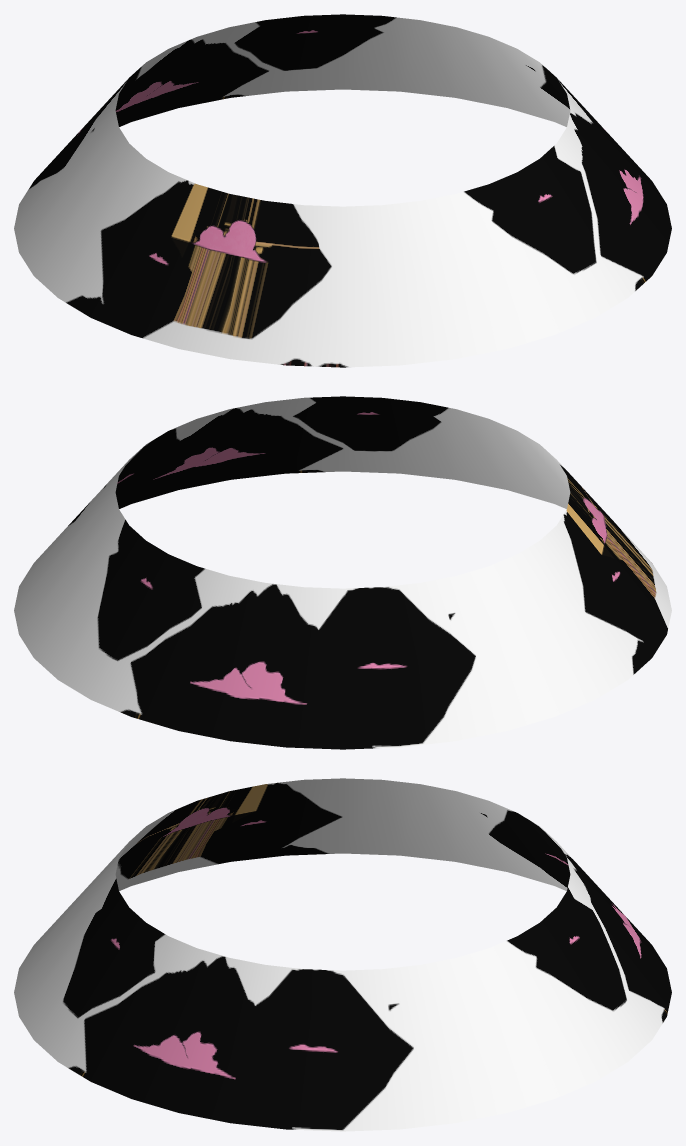
The model's file is Clouds Far.fbx.
The picture shows the model from 3 angles, top to bottom: view 1: azimuth 30°, elevation 25°; view 2: azimuth 150°, elevation 25°; view 3: azimuth 270°, elevation 25°; orthographic projection.
Parts seen in each view (by area): view 1: Clouds_Far; view 2: Clouds_Far; view 3: Clouds_Far.
Boxes of the visible parts, <box> form: Clouds_Far: <box>14,14,671,367</box>; Clouds_Far: <box>14,396,671,749</box>; Clouds_Far: <box>14,778,671,1131</box>.
Bounding box in the file's own units: 702 × 702 × 139.
